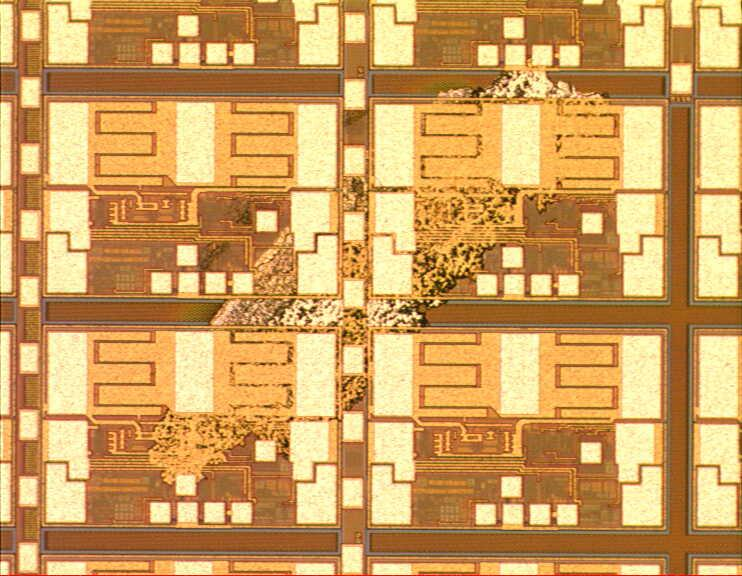BLOCK ETCH: (140, 55, 634, 492)
